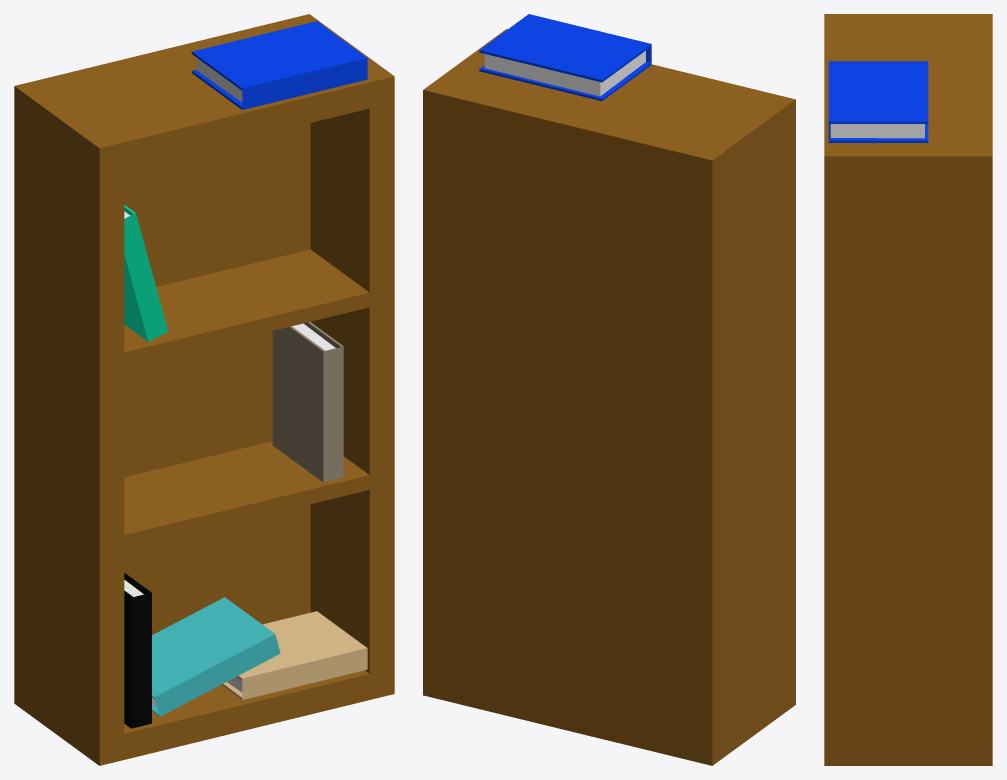
Rendered from bookhelf.fbx.
3 views of the same model, side by side, from view 1: azimuth 30°, elevation 25°; view 2: azimuth 150°, elevation 25°; view 3: azimuth 270°, elevation 25° (orthographic). The views are drawn at different scales.
Visible parts, largest first — view 1: Bookshelf; view 2: Bookshelf; view 3: Bookshelf.
Boxes of the visible parts, <box> form: Bookshelf: <box>14,14,394,765</box>; Bookshelf: <box>423,14,795,765</box>; Bookshelf: <box>824,14,992,765</box>.
Bounding box in the file's own units: 100 × 207 × 50.
